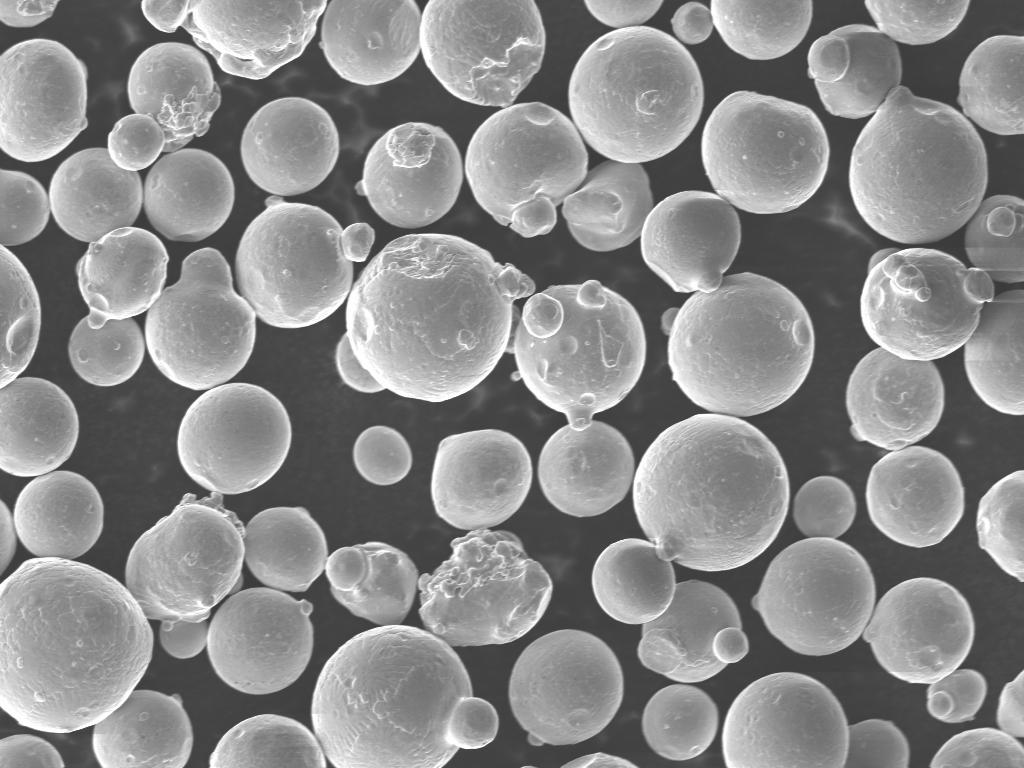Powder: (336, 234, 536, 401), (0, 558, 154, 731), (312, 626, 498, 766), (632, 414, 790, 570), (592, 538, 748, 682), (662, 272, 814, 417), (850, 86, 988, 243), (126, 494, 244, 657), (514, 282, 646, 427), (568, 26, 704, 162), (236, 196, 374, 328), (466, 102, 588, 238), (144, 248, 256, 390), (418, 528, 552, 646), (702, 92, 830, 214), (860, 248, 994, 359), (752, 538, 876, 656), (142, 0, 327, 78), (108, 44, 220, 169), (420, 0, 546, 106), (508, 632, 624, 746), (178, 382, 292, 494), (722, 672, 850, 767), (862, 578, 974, 683), (356, 122, 464, 228), (206, 588, 314, 694), (0, 38, 88, 161), (640, 190, 740, 292), (846, 348, 944, 450), (866, 446, 964, 547), (432, 430, 530, 529), (240, 98, 338, 195), (538, 420, 634, 515), (78, 228, 168, 327), (808, 24, 902, 118), (48, 148, 142, 241), (562, 160, 654, 251), (144, 148, 234, 241), (320, 0, 420, 83), (92, 690, 194, 768), (0, 378, 78, 476), (326, 542, 418, 625), (16, 472, 102, 559), (964, 290, 1024, 414), (246, 508, 328, 592), (958, 36, 1024, 133), (210, 714, 326, 768), (710, 0, 812, 60), (642, 684, 718, 760), (0, 246, 40, 387), (976, 470, 1024, 581), (68, 318, 144, 386), (964, 196, 1024, 281), (864, 1, 970, 45), (930, 728, 1024, 768), (0, 170, 50, 245), (794, 478, 854, 538), (354, 426, 412, 485), (926, 670, 988, 722), (844, 720, 908, 768), (584, 1, 664, 28), (996, 670, 1024, 737), (672, 2, 712, 44), (0, 1, 58, 28), (0, 500, 18, 573), (562, 752, 638, 767)
